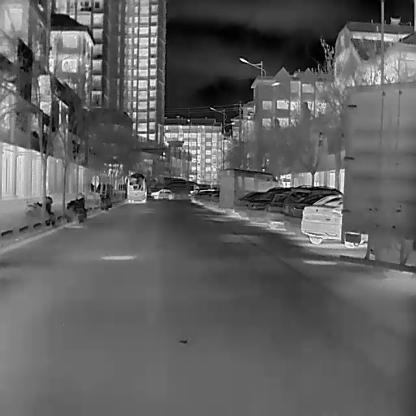car: (336, 76, 416, 267), (300, 194, 366, 247), (282, 185, 342, 238), (220, 167, 281, 210), (248, 193, 277, 225), (267, 190, 289, 230), (233, 191, 261, 220), (126, 175, 149, 202), (164, 181, 188, 199), (149, 188, 172, 199)
